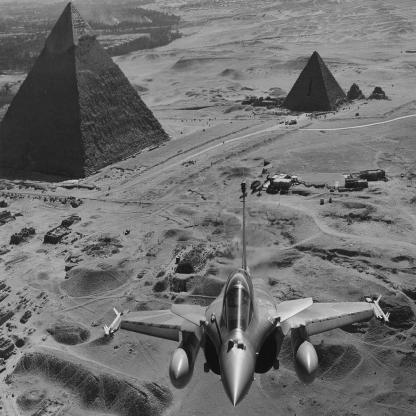Rafale: (104, 170, 391, 409)
